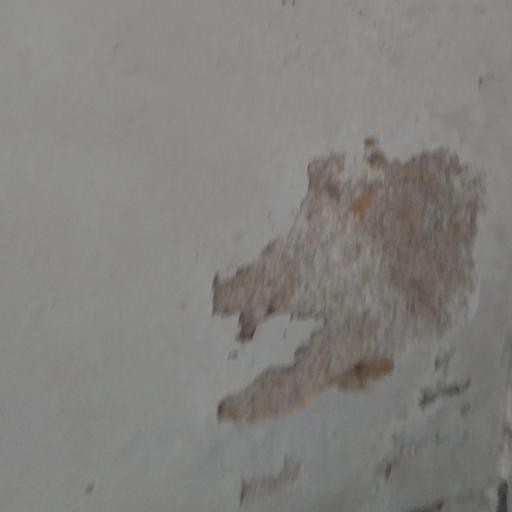peeling: (198, 132, 512, 438), (364, 455, 512, 512), (228, 454, 322, 512)
